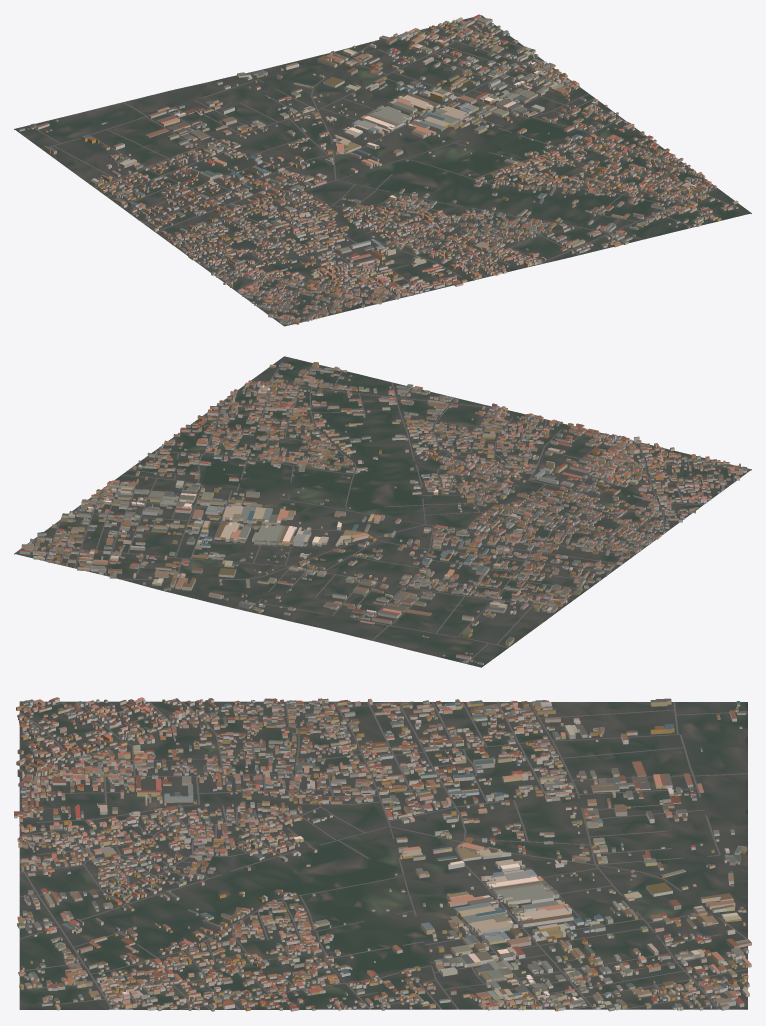
The picture shows the model from 3 angles, top to bottom: view 1: azimuth 30°, elevation 25°; view 2: azimuth 150°, elevation 25°; view 3: azimuth 270°, elevation 25°; orthographic projection. The views are drawn at different scales.
Visible parts, largest first — view 1: ground, buildings, roads; view 2: ground, buildings, roads; view 3: ground, buildings, roads.
Boxes of the visible parts, left/top/right/bottom form: ground: left=14, top=15, right=751, bottom=326; buildings: left=18, top=14, right=738, bottom=324; roads: left=29, top=22, right=729, bottom=322; ground: left=14, top=356, right=751, bottom=667; buildings: left=19, top=362, right=747, bottom=664; roads: left=32, top=366, right=734, bottom=663; ground: left=19, top=701, right=747, bottom=1009; buildings: left=14, top=697, right=751, bottom=1011; roads: left=19, top=701, right=747, bottom=1009.
Size of the model in its own units: 1415 by 20.37 by 1421.
